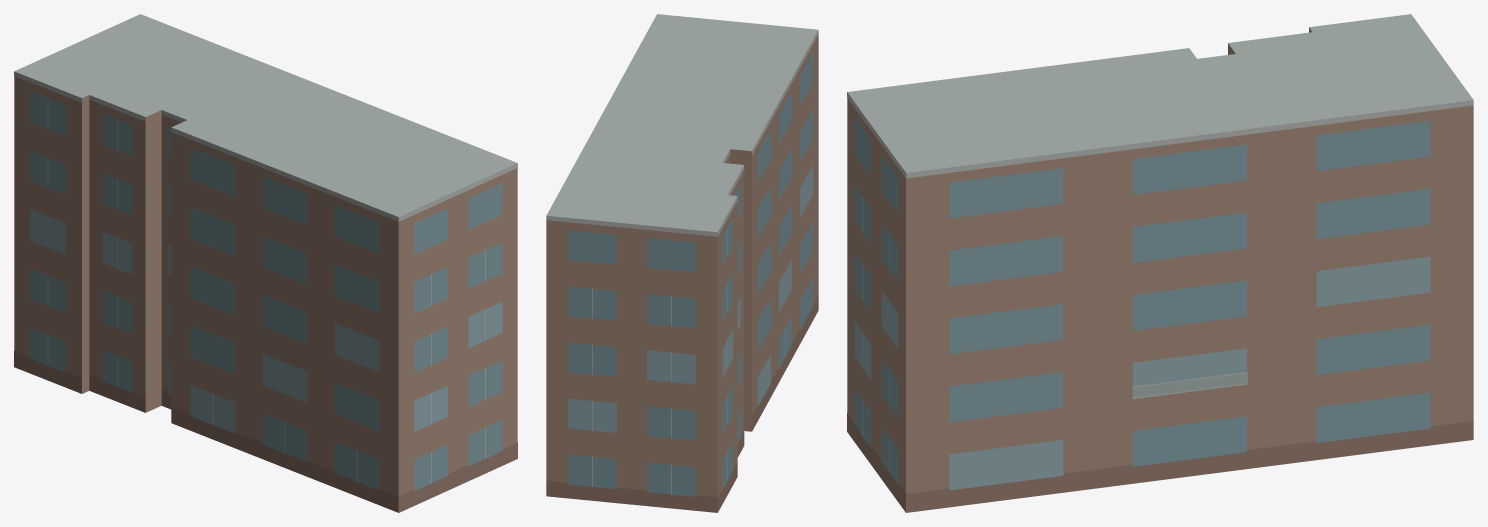
The model's file is survey-upis-32984345.glb.
3 views of the same model, side by side, from view 1: azimuth 30°, elevation 25°; view 2: azimuth 150°, elevation 25°; view 3: azimuth 270°, elevation 25° (orthographic). The views are drawn at different scales.
Visible parts, largest first — view 1: survey-upis-32984345.tmp; view 2: survey-upis-32984345.tmp; view 3: survey-upis-32984345.tmp.
Boxes of the visible parts, box(x1,y1,x2,y2) form: survey-upis-32984345.tmp: box(14, 14, 517, 512); survey-upis-32984345.tmp: box(546, 14, 818, 512); survey-upis-32984345.tmp: box(847, 14, 1473, 512).
Bounding box in the file's own units: 15.37 × 15.3 × 25.58.
